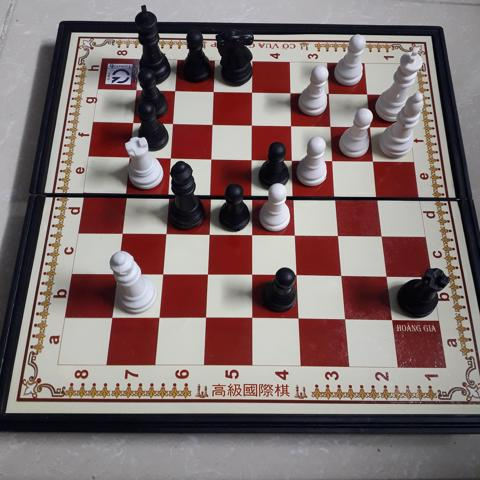xcorner: (377, 228, 394, 245), (338, 313, 355, 329), (291, 268, 307, 285), (381, 269, 397, 286), (204, 187, 220, 204), (288, 152, 305, 168), (371, 153, 387, 170), (126, 115, 143, 131), (207, 116, 223, 133), (328, 118, 344, 135), (104, 310, 120, 326), (151, 311, 167, 327), (198, 311, 214, 327), (245, 312, 261, 328), (292, 312, 308, 328), (385, 313, 401, 329), (109, 266, 125, 282), (155, 267, 171, 283), (200, 267, 216, 283), (246, 268, 262, 284), (336, 269, 352, 285), (114, 225, 130, 241), (158, 226, 174, 242), (202, 226, 218, 242), (246, 227, 262, 243), (290, 227, 306, 243), (334, 228, 350, 244), (118, 186, 134, 202), (161, 187, 177, 203), (247, 188, 263, 204), (289, 189, 305, 205), (332, 189, 348, 205), (374, 190, 390, 206), (123, 150, 139, 166), (164, 150, 180, 166), (206, 151, 222, 167), (247, 152, 263, 168), (330, 153, 346, 169), (167, 116, 183, 132), (248, 117, 264, 133), (288, 118, 304, 134), (368, 119, 384, 135), (130, 83, 146, 99), (170, 83, 186, 99), (209, 84, 225, 100), (248, 85, 264, 101), (287, 85, 303, 101), (326, 86, 342, 102), (365, 87, 381, 103)
